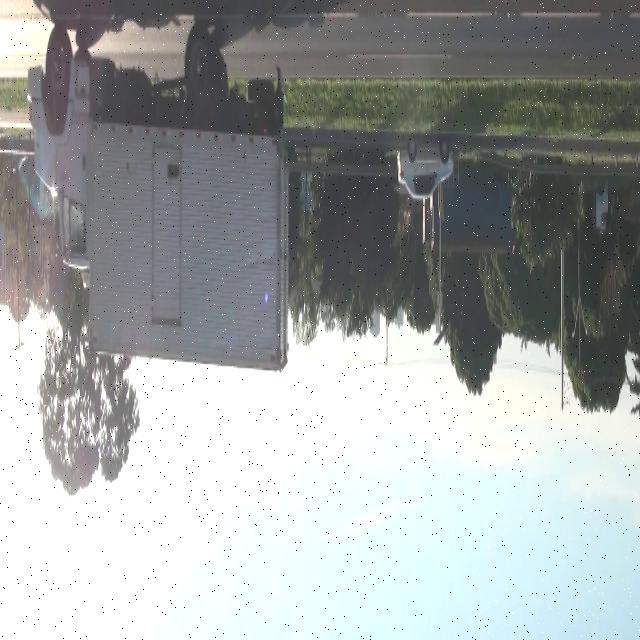-axle: (184, 19, 214, 102), (46, 19, 70, 102)
